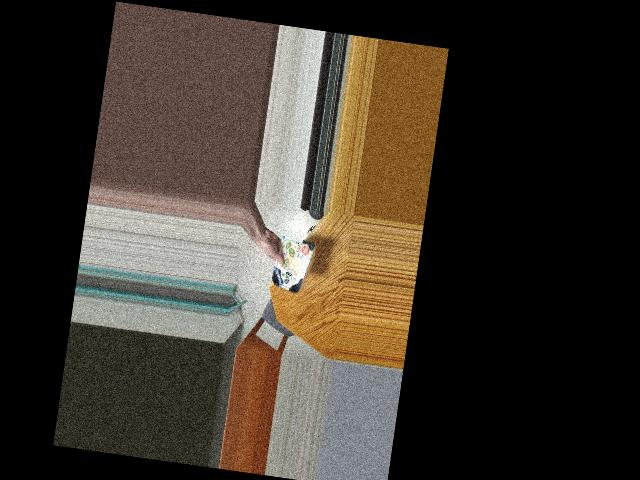cheese: (266, 243, 314, 289)
